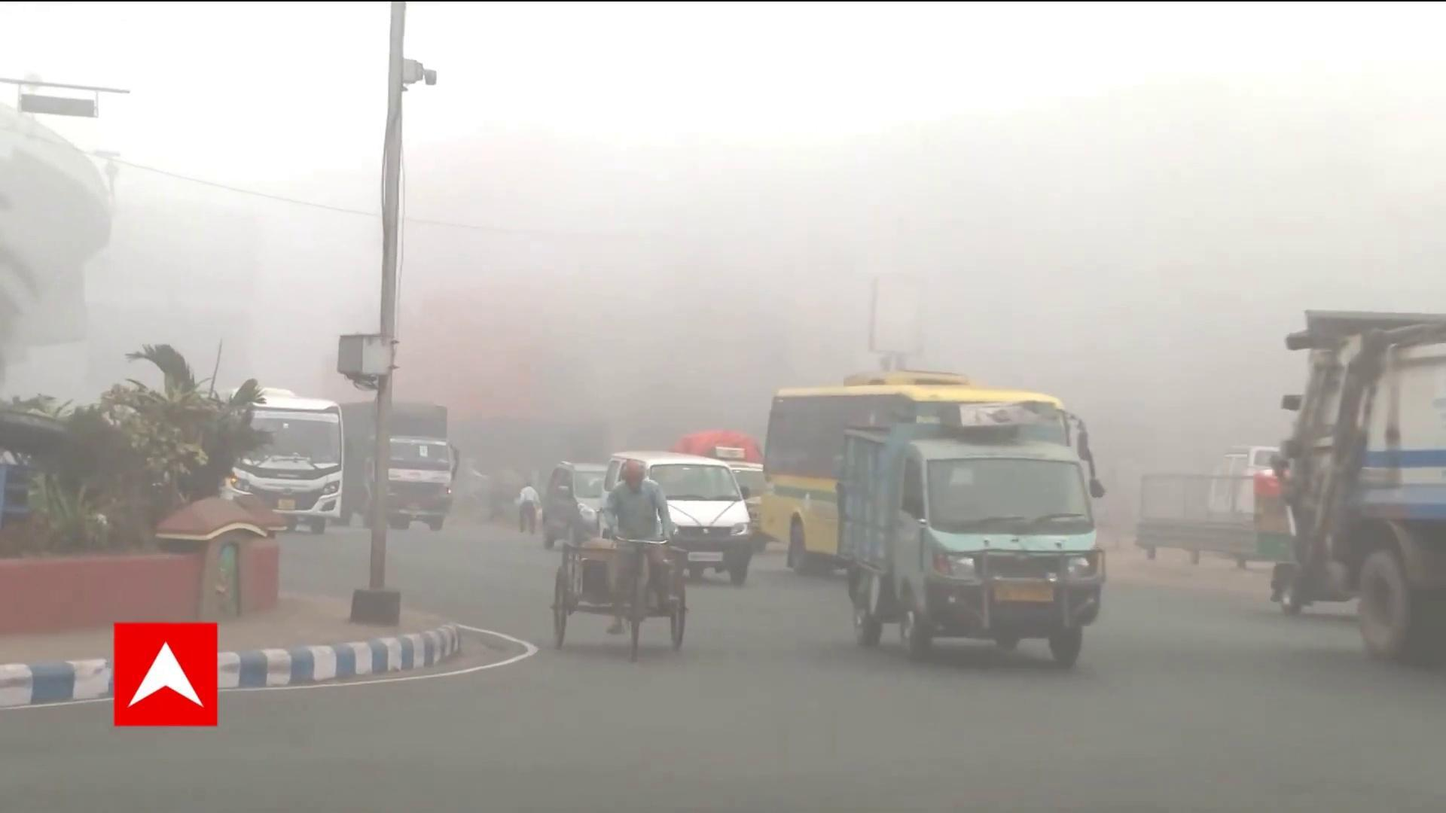Bus: (763, 364, 1086, 579), (218, 387, 354, 542)
Car: (620, 450, 766, 585)
Truck: (836, 409, 1106, 669), (346, 402, 459, 540)
